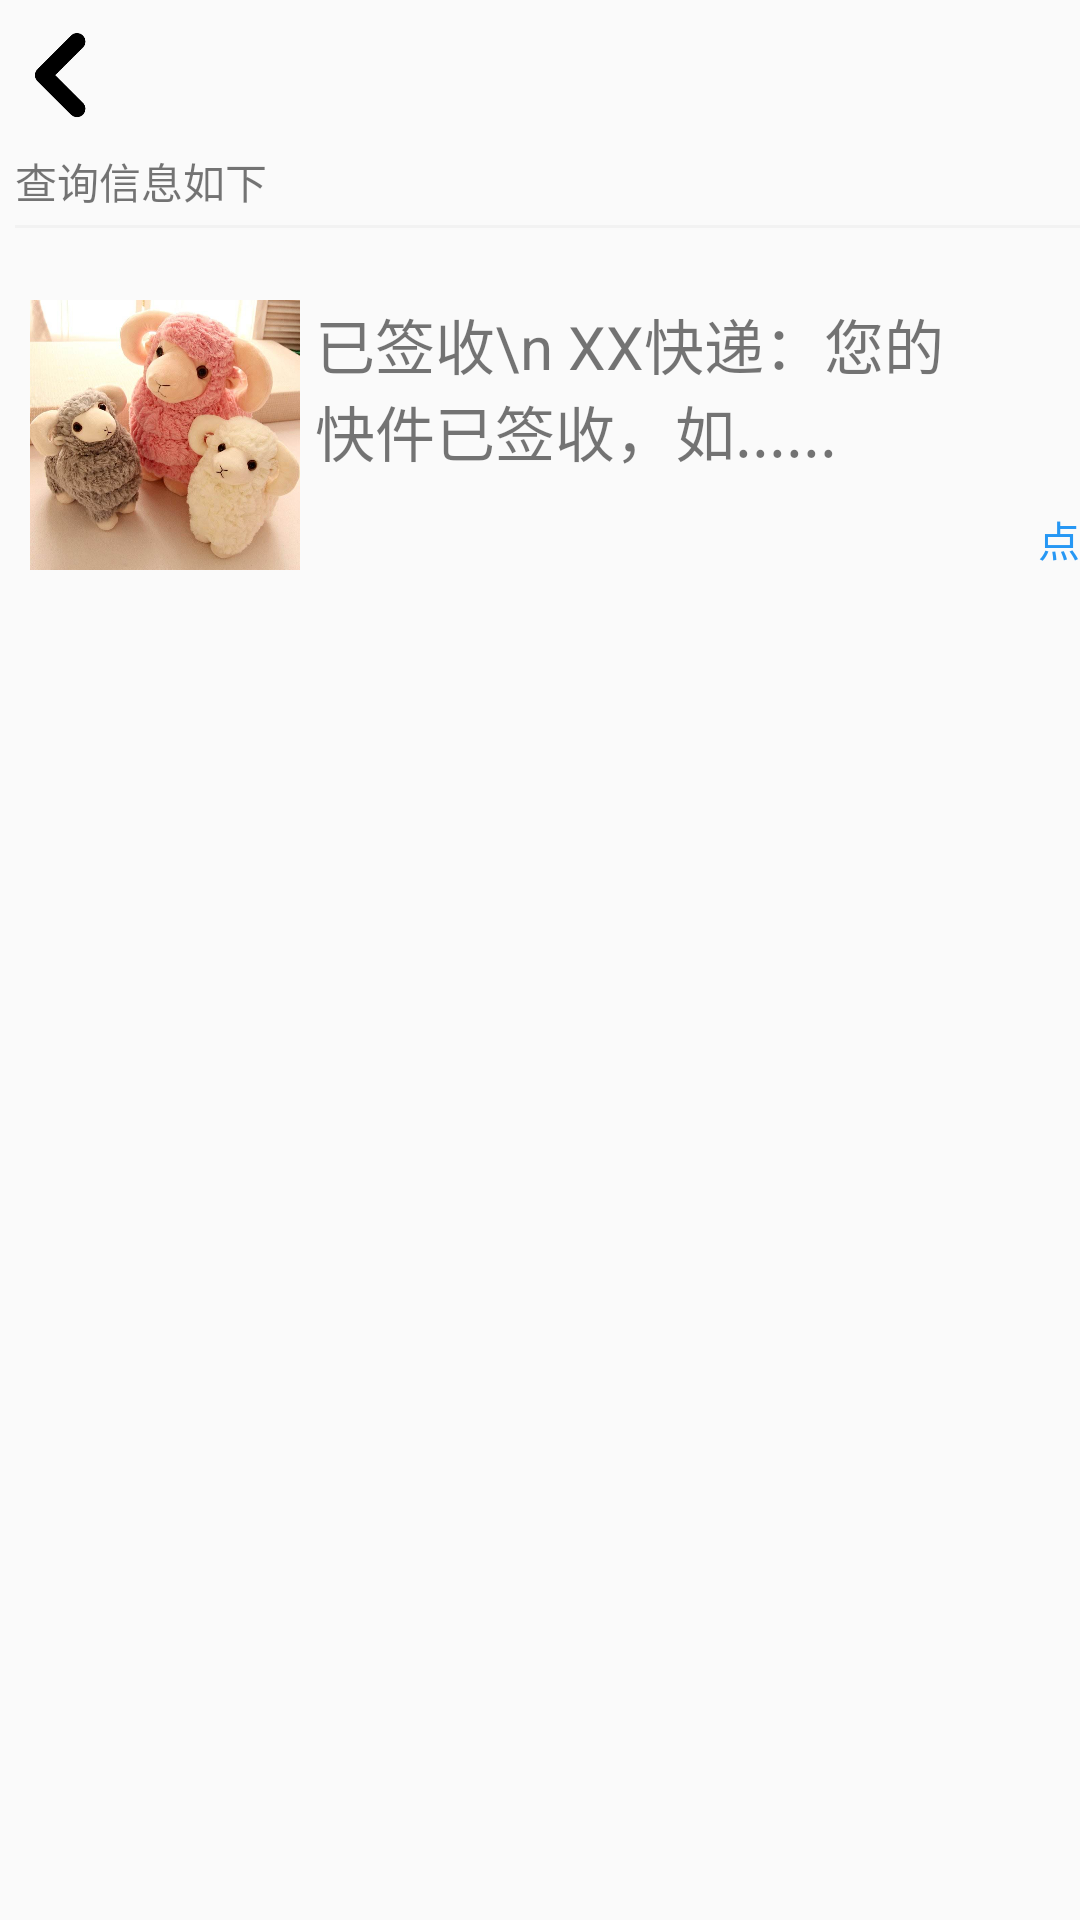

Named icons in this screenshot (1080px×1920px) and their centers, (x=x, y=y):
back: (x=60, y=75)
yangwanou: (x=165, y=435)
